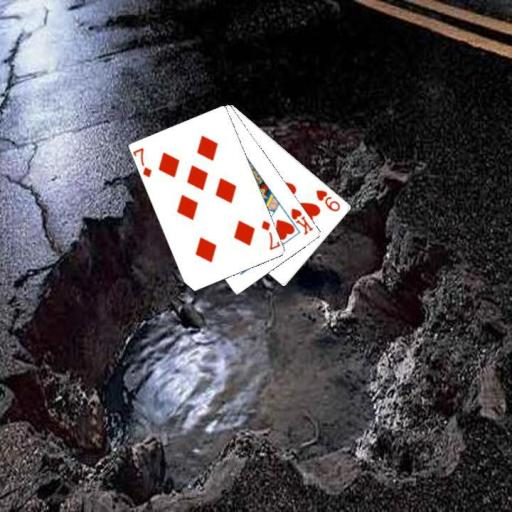7D: (258, 217, 280, 252), (132, 145, 154, 180)
9H: (313, 187, 342, 214)
KH: (288, 205, 315, 236)
